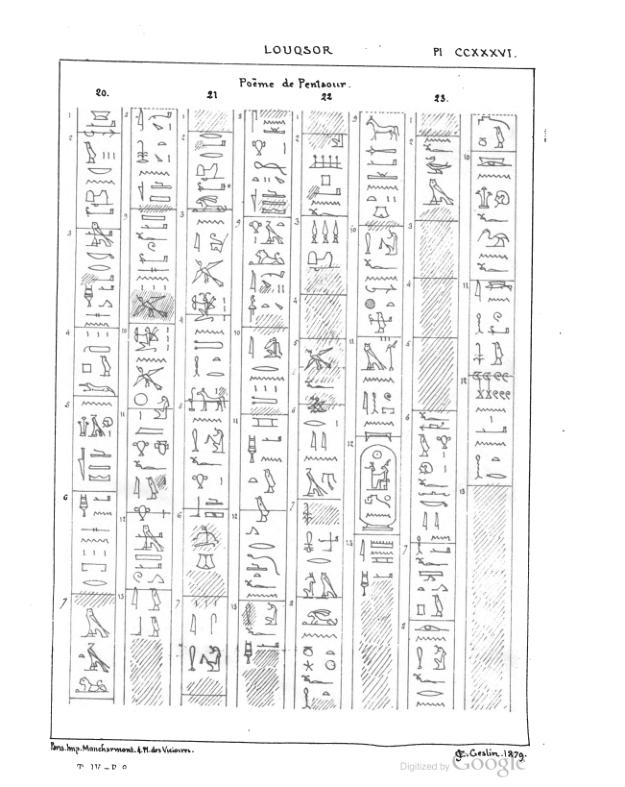circle: (358, 444, 400, 530)
